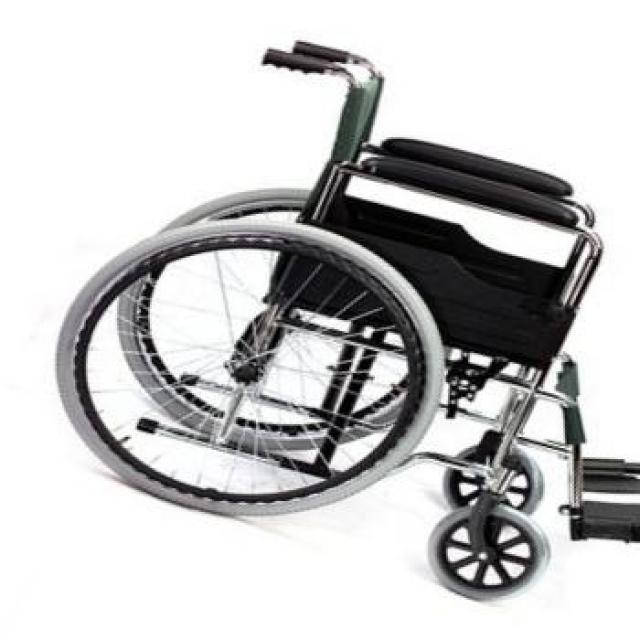wheelchair: (48, 33, 640, 608)
